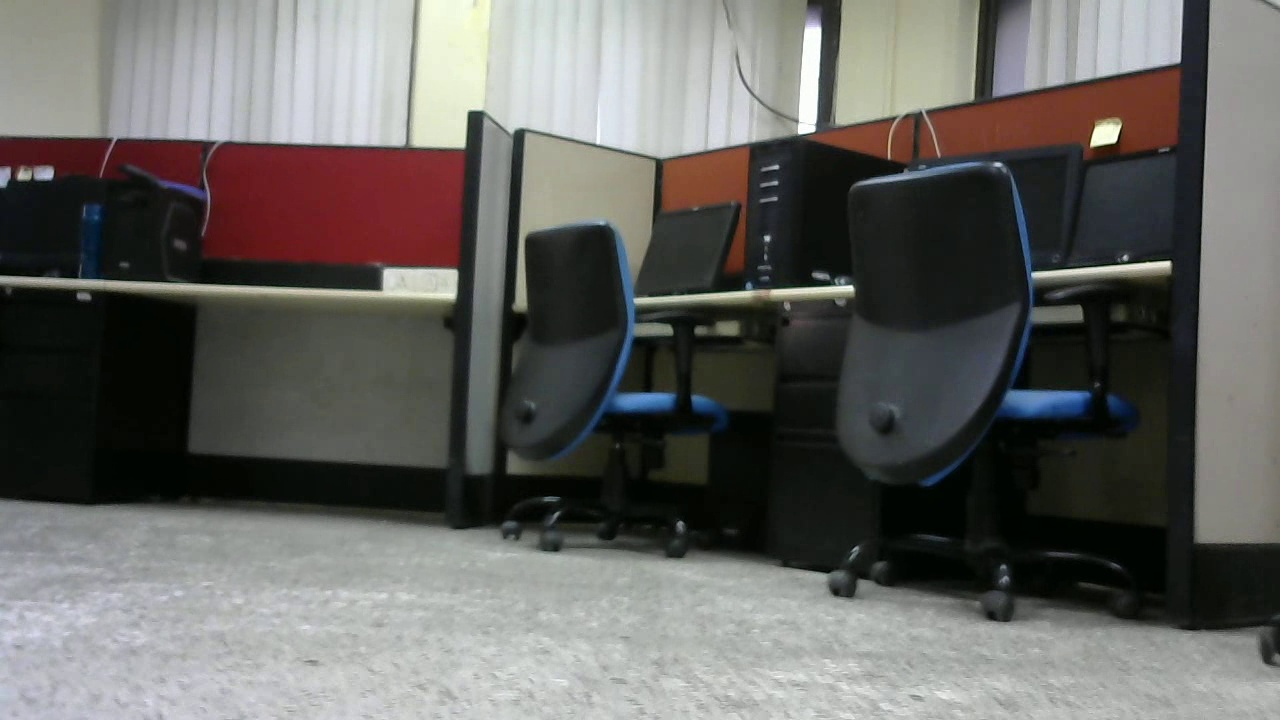chair: (807, 162, 1150, 619), (496, 223, 734, 557)
